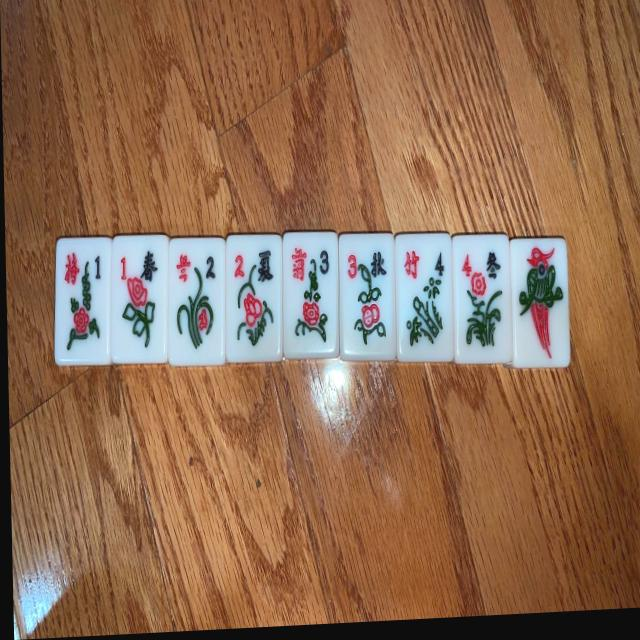f1: (54, 238, 112, 364)
f2: (168, 237, 225, 367)
f3: (283, 231, 339, 358)
f4: (395, 232, 454, 361)
ff1: (111, 235, 168, 363)
ff2: (225, 234, 282, 363)
ff3: (338, 233, 397, 361)
ff4: (452, 234, 512, 364)
s1: (509, 238, 571, 367)
